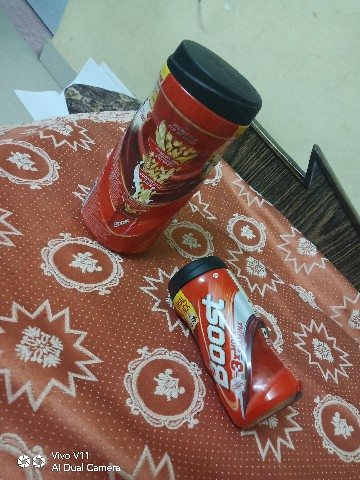boost big: (78, 31, 267, 254)
boost small: (162, 253, 310, 434)
